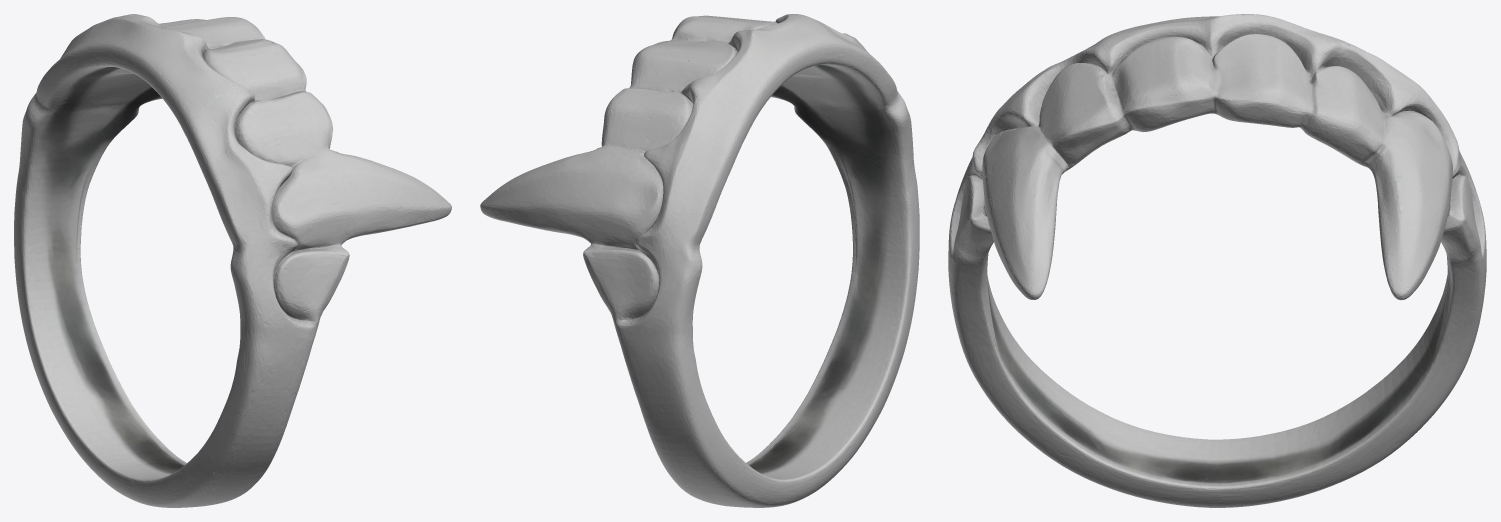
Rendered from vampire-fang-ring-case.glb.
3 renders of one model, left to right at view 1: azimuth 30°, elevation 25°; view 2: azimuth 150°, elevation 25°; view 3: azimuth 270°, elevation 25°, orthographic. The views are drawn at different scales.
Visible parts, largest first — view 1: tripo_node_fdf254d3-32b6-4971-b30d-4ddfef85feac; view 2: tripo_node_fdf254d3-32b6-4971-b30d-4ddfef85feac; view 3: tripo_node_fdf254d3-32b6-4971-b30d-4ddfef85feac.
Part boxes in pixels (x1,y1,x2,y2): tripo_node_fdf254d3-32b6-4971-b30d-4ddfef85feac: (14, 14, 451, 507); tripo_node_fdf254d3-32b6-4971-b30d-4ddfef85feac: (480, 14, 919, 507); tripo_node_fdf254d3-32b6-4971-b30d-4ddfef85feac: (948, 14, 1486, 507).
Size of the model in its own units: 0.5963 by 0.9797 by 0.9588.
Materials: 1 (1 with a texture image).
